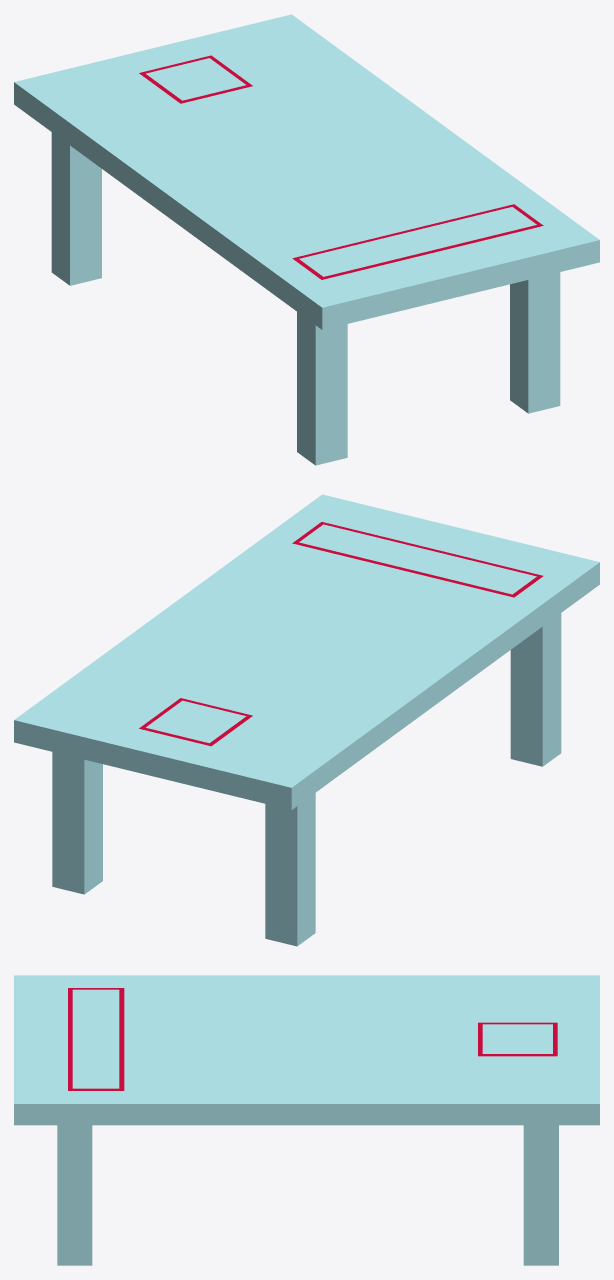
Rendered from Table.FBX.
3 renders of one model, top to bottom at view 1: azimuth 30°, elevation 25°; view 2: azimuth 150°, elevation 25°; view 3: azimuth 270°, elevation 25°, orthographic. The views are drawn at different scales.
Visible parts, largest first — view 1: Box001, Box004, Box002, Box005, Plane008, Plane005, Plane009, Plane006; view 2: Box001, Box002, Box004, Box003, Plane008, Plane005, Plane009, Plane006; view 3: Box001, Box005, Box003, Plane008, Plane005, Plane009, Plane006.
Boxes of the visible parts, <box> form: Box001: <box>14,14,599,329</box>; Box004: <box>297,312,347,465</box>; Box002: <box>51,132,101,285</box>; Box005: <box>510,272,560,413</box>; Plane008: <box>299,207,536,276</box>; Plane005: <box>146,58,245,100</box>; Plane009: <box>292,204,543,279</box>; Plane006: <box>139,55,252,103</box>; Box001: <box>14,494,599,809</box>; Box002: <box>265,793,315,946</box>; Box004: <box>510,613,561,766</box>; Box003: <box>52,752,102,894</box>; Plane008: <box>299,524,536,594</box>; Plane005: <box>146,700,246,743</box>; Plane009: <box>292,522,543,597</box>; Plane006: <box>139,698,252,746</box>; Box001: <box>14,975,599,1125</box>; Box005: <box>57,1125,92,1265</box>; Box003: <box>523,1125,558,1265</box>; Plane008: <box>72,989,119,1088</box>; Plane005: <box>482,1024,552,1053</box>; Plane009: <box>68,988,124,1090</box>; Plane006: <box>478,1022,557,1056</box>.
Size of the model in its own units: 1.3 by 0.8 by 2.5.
